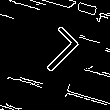L_SW: (23, 23, 81, 81)
